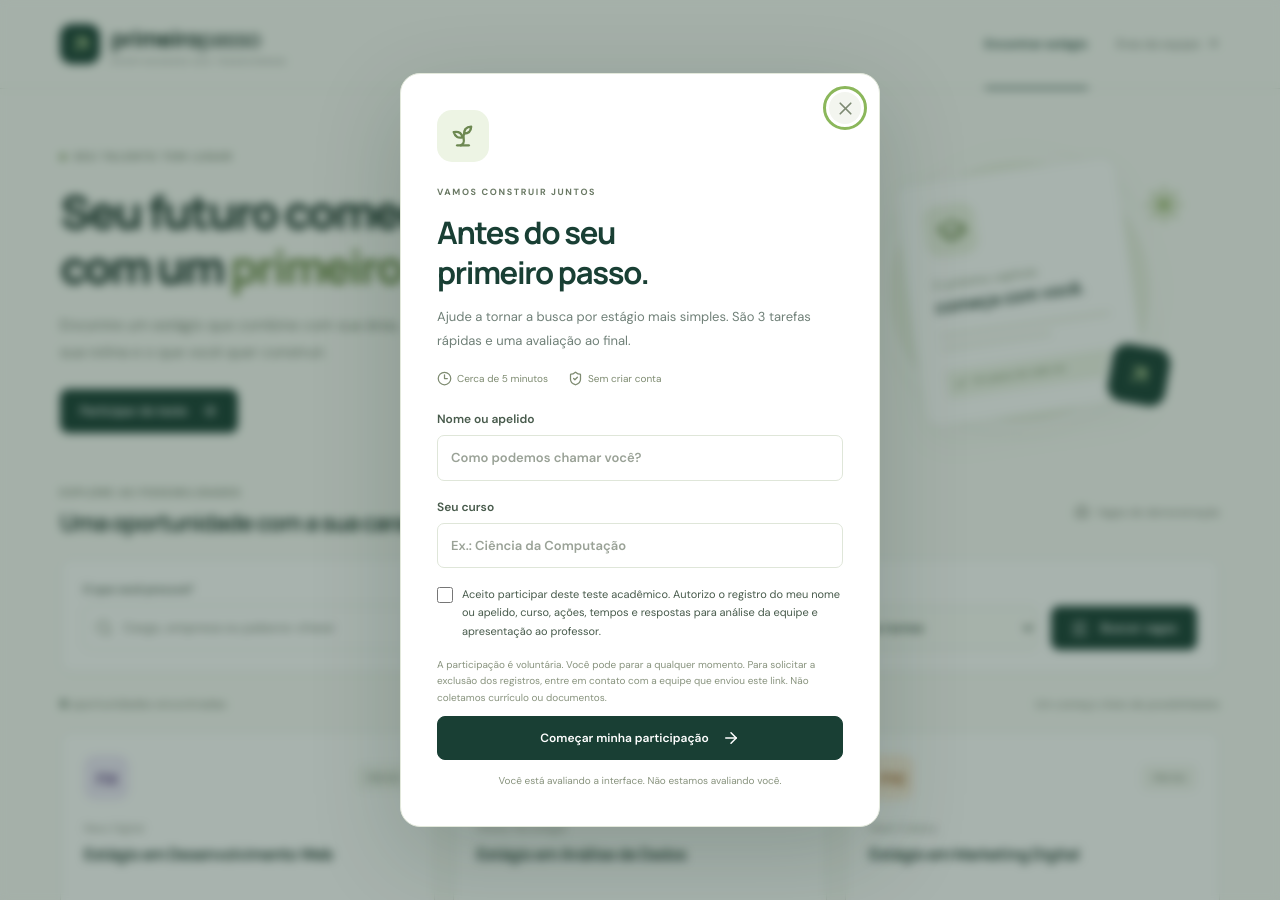
Test: falha de rede não é exibida como participação registrada
The image size is (1280, 900).
Type "Ana" into the field labelled "Nome ou apelido" at {"x": 640, "y": 458}, box [437, 435, 843, 481]
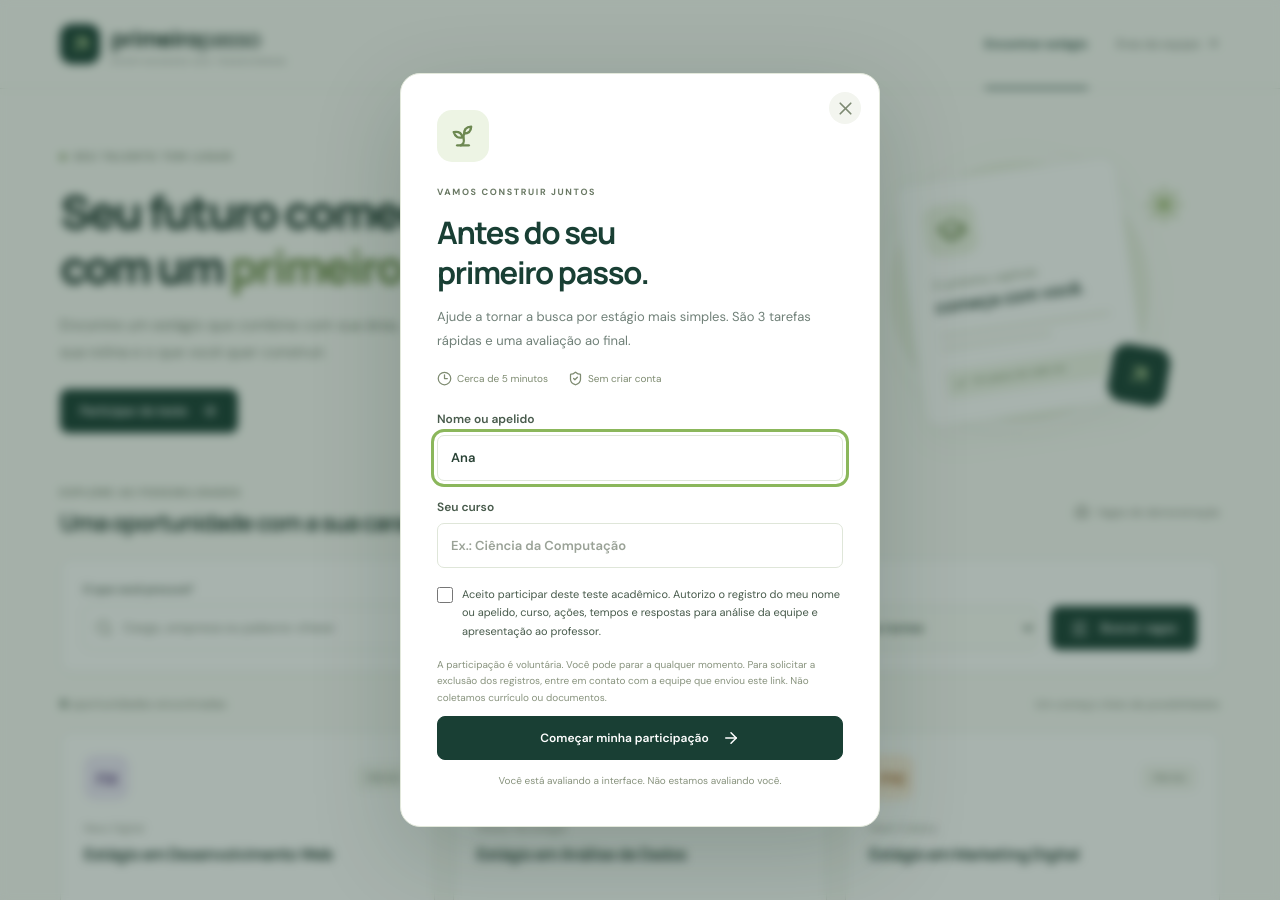
Type "Ciência da Computação" into the field labelled "Seu curso" at {"x": 640, "y": 545}, box [437, 523, 843, 568]
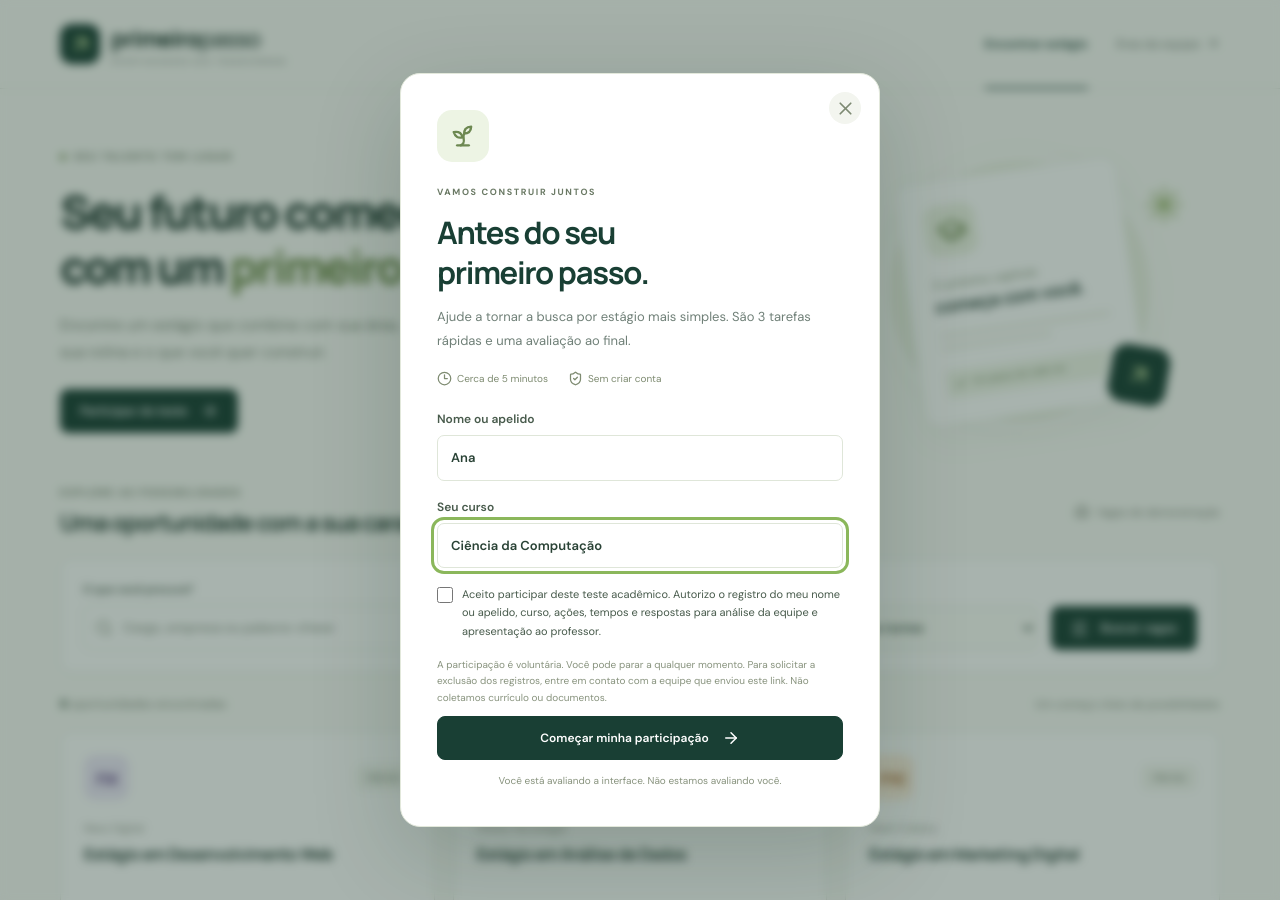
Click the checkbox at {"x": 445, "y": 595}, box [437, 587, 453, 603]
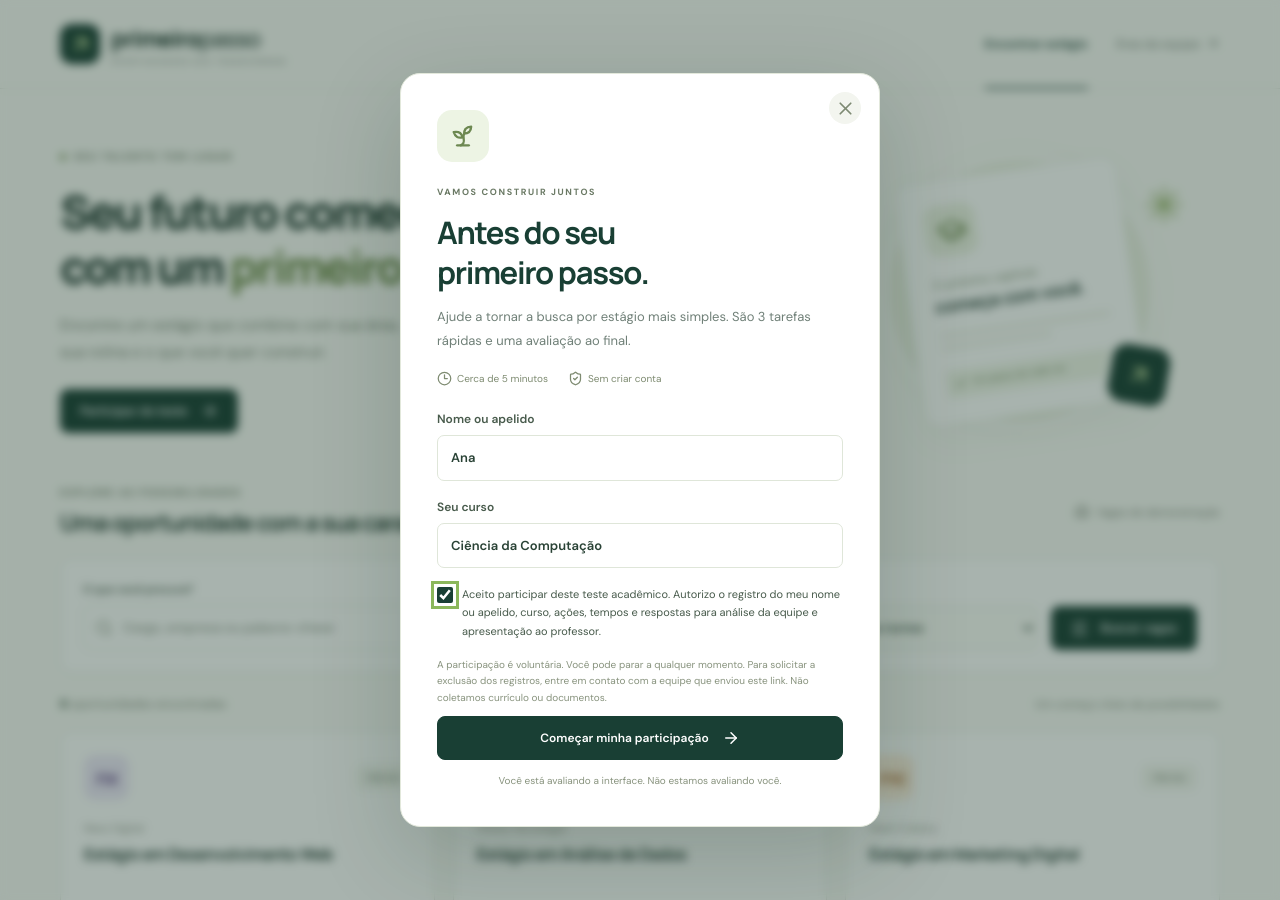
Click the button "Começar minha participação" at {"x": 640, "y": 738}, box [437, 716, 843, 760]
(page scrolled)
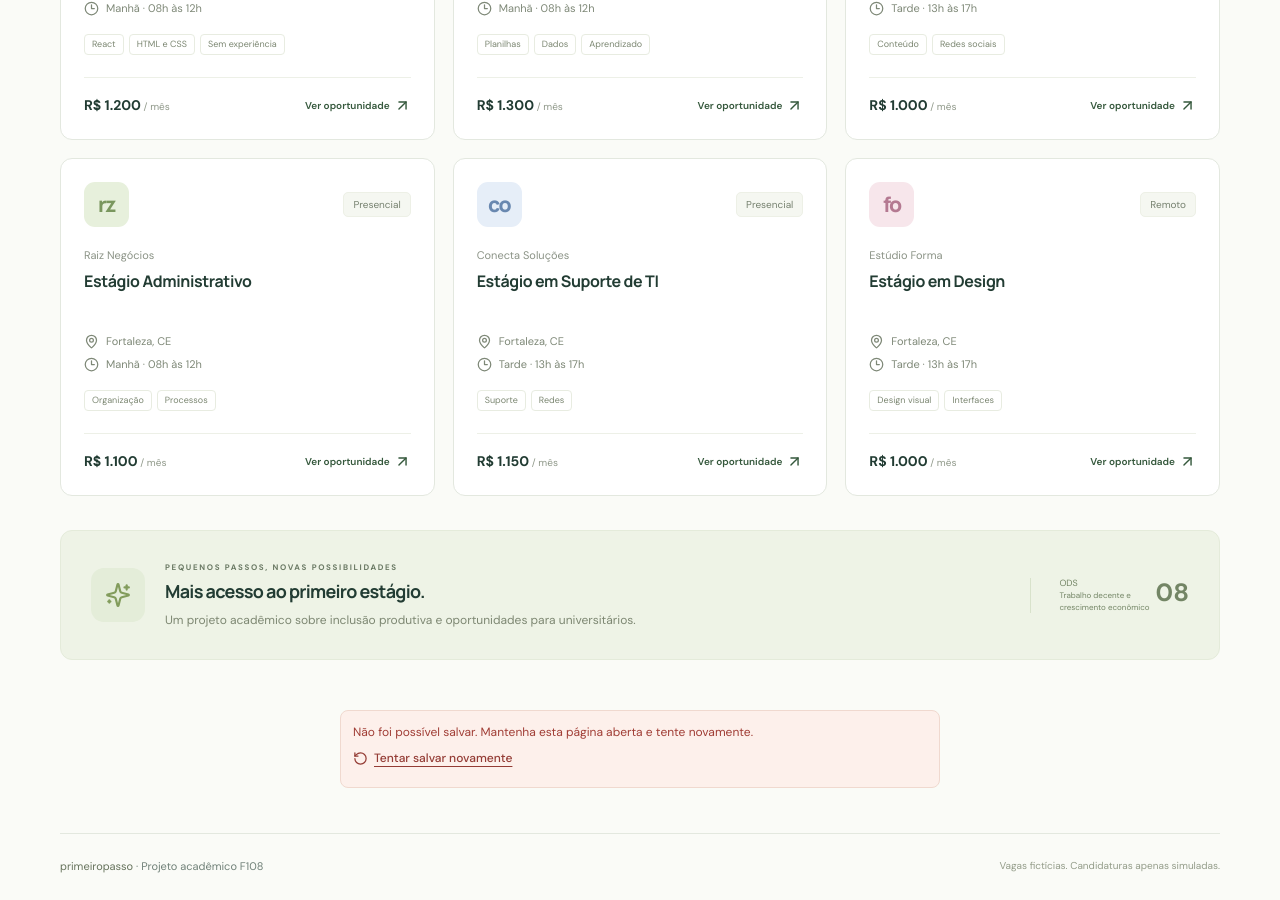
Now the text "Não foi possível salvar" is shown, box [353, 724, 753, 740]
Click the button "Tentar salvar novamente" at {"x": 433, "y": 758}, box [353, 742, 512, 776]
(page scrolled)
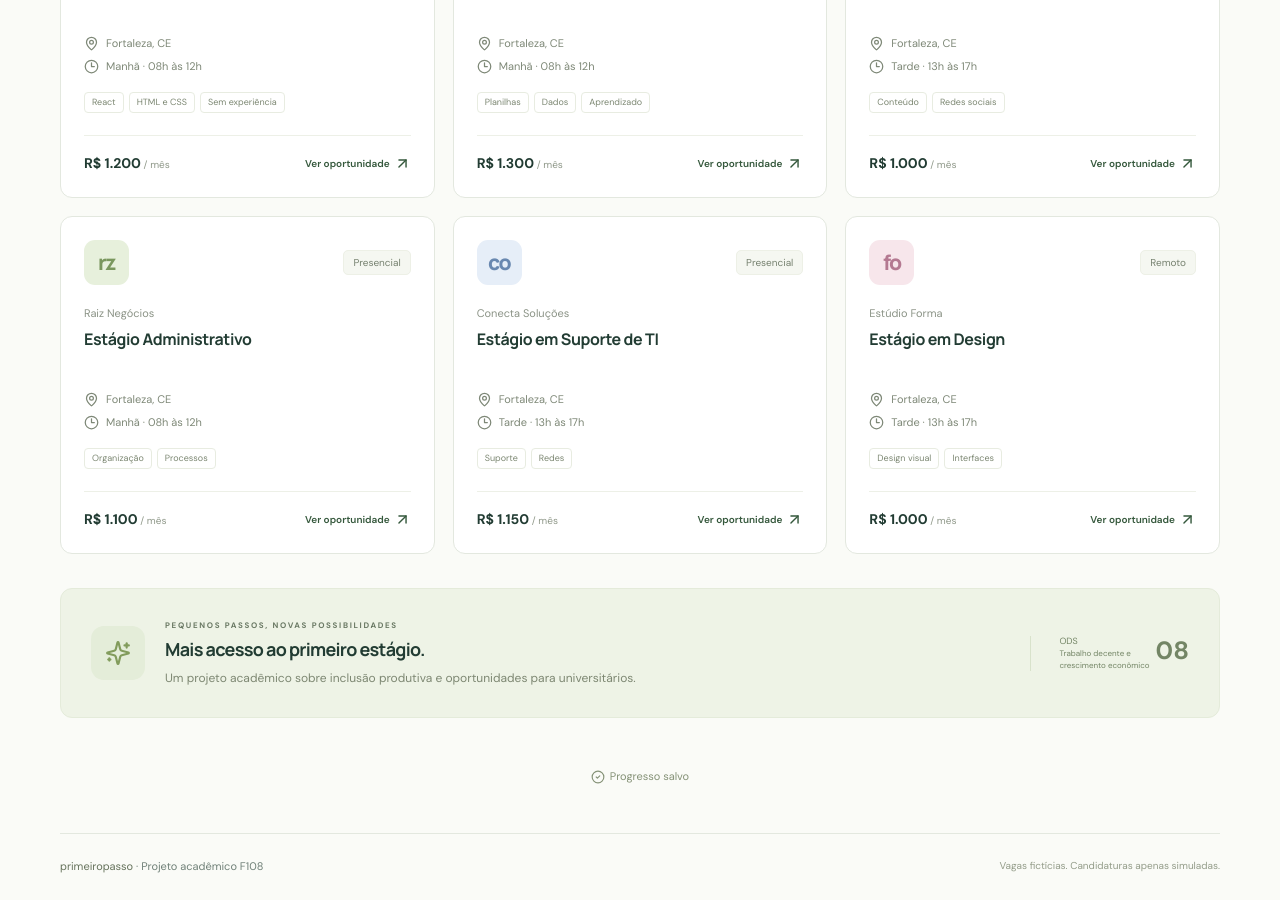
Now the text "Progresso salvo" is shown, box [591, 768, 689, 785]
